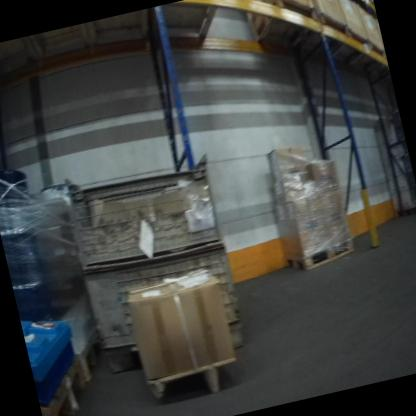pallet: (246, 0, 320, 68), (279, 237, 365, 276), (36, 362, 92, 416), (78, 336, 116, 389)
stillage: (54, 147, 252, 375)
